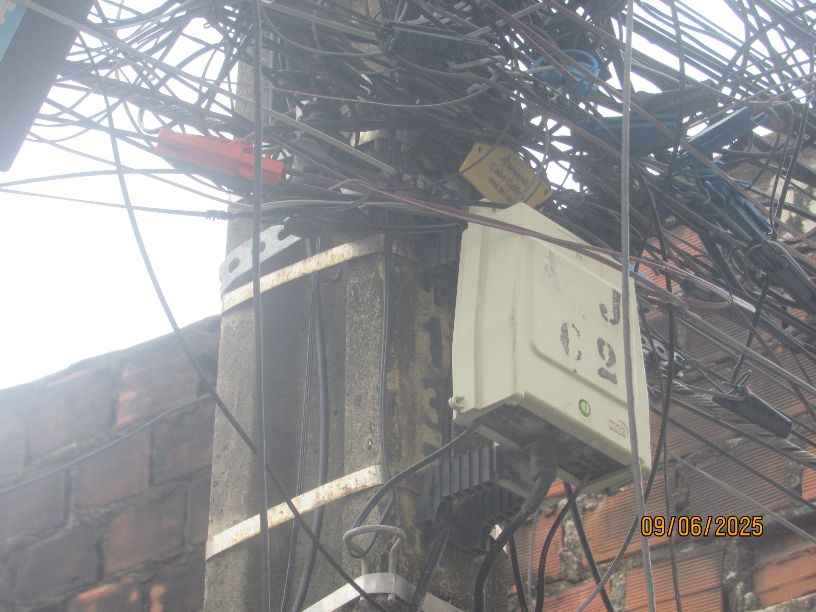caixa_derivacao: (444, 196, 657, 504)
drop: (64, 98, 327, 206)
